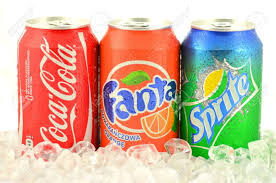fanta: (101, 23, 181, 151)
